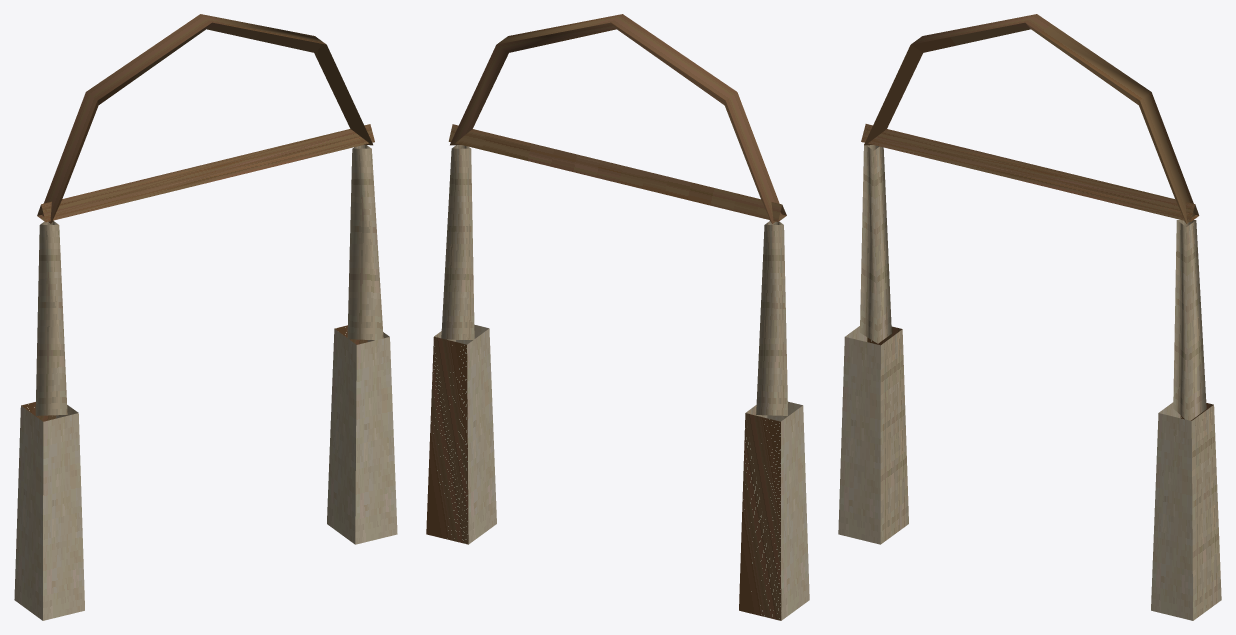
The model's file is thm_nboo_imprv_arbor_pillar_s01_l2.fbx.
3 renders of one model, left to right at view 1: azimuth 30°, elevation 25°; view 2: azimuth 150°, elevation 25°; view 3: azimuth 330°, elevation 25°, orthographic.
Parts seen in each view (by area): view 1: mesh_node; view 2: mesh_node; view 3: mesh_node.
Part boxes in pixels (x1=…): mesh_node: x1=14, y1=14, x2=397, y2=620; mesh_node: x1=426, y1=14, x2=809, y2=620; mesh_node: x1=838, y1=14, x2=1221, y2=620.
Size of the model in its own units: 3.97 by 5.86 by 0.5511.
